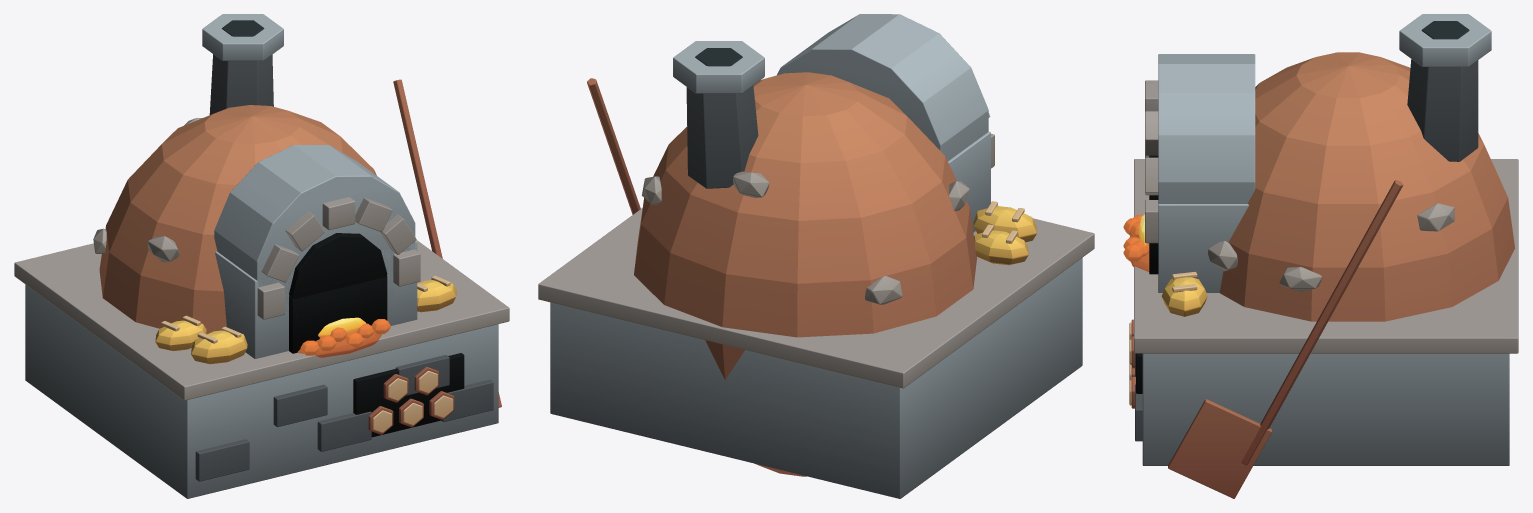
File: oven.glb
The picture shows the model from 3 angles, left to right: view 1: azimuth 30°, elevation 25°; view 2: azimuth 150°, elevation 25°; view 3: azimuth 270°, elevation 25°; orthographic projection. The views are drawn at different scales.
Visible parts, largest first — view 1: oven; view 2: oven; view 3: oven.
Part boxes in pixels (x1,y1,x2,y2): oven: (14, 14, 509, 498); oven: (538, 14, 1094, 498); oven: (1123, 14, 1518, 498).
Size of the model in its own units: 1.97 by 2.18 by 1.79.
4 materials, 4 textured.
